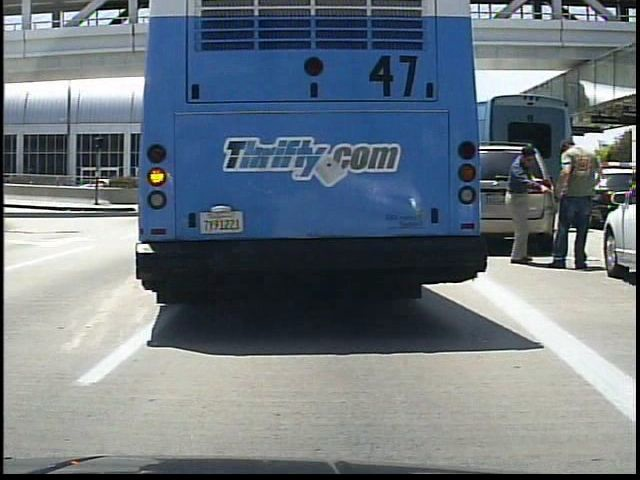person: (547, 124, 599, 279), (501, 134, 550, 268)
